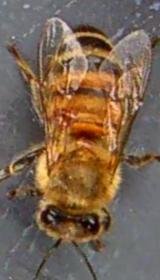varroa_mite: (47, 103, 77, 128)
